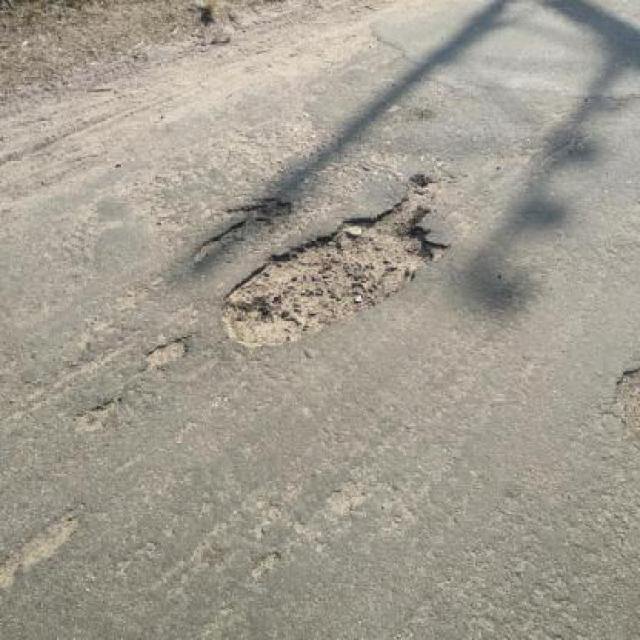Pothole: (223, 170, 452, 352), (0, 498, 91, 590), (188, 194, 294, 267), (611, 364, 639, 444), (139, 334, 196, 372)
